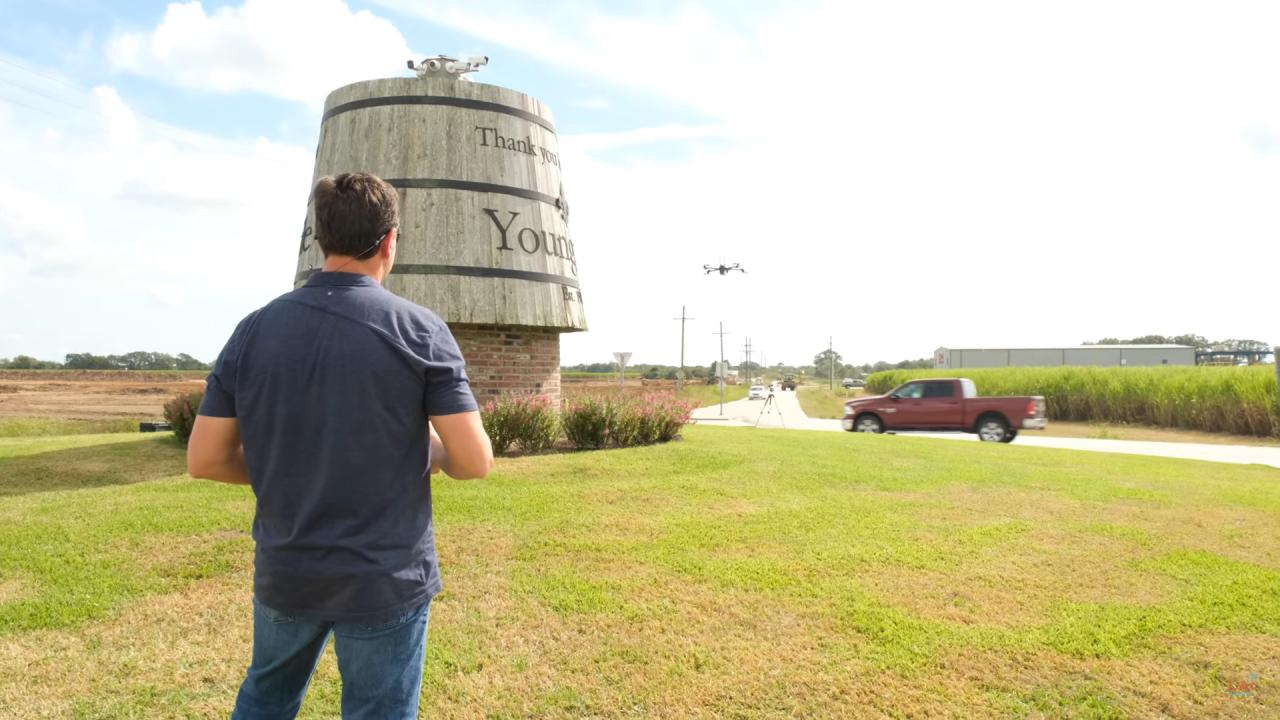Drone: (694, 251, 755, 284)
